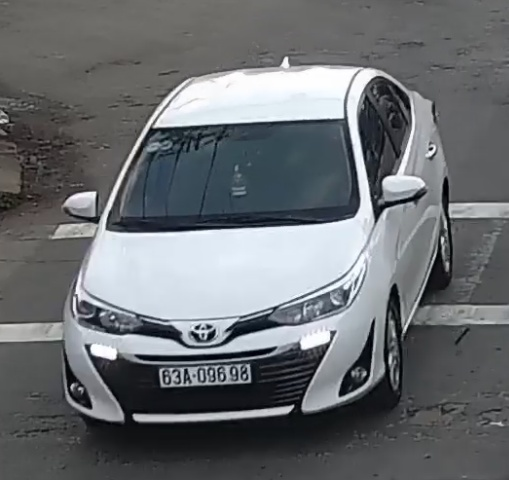vehicle plate: (157, 358, 260, 390)
